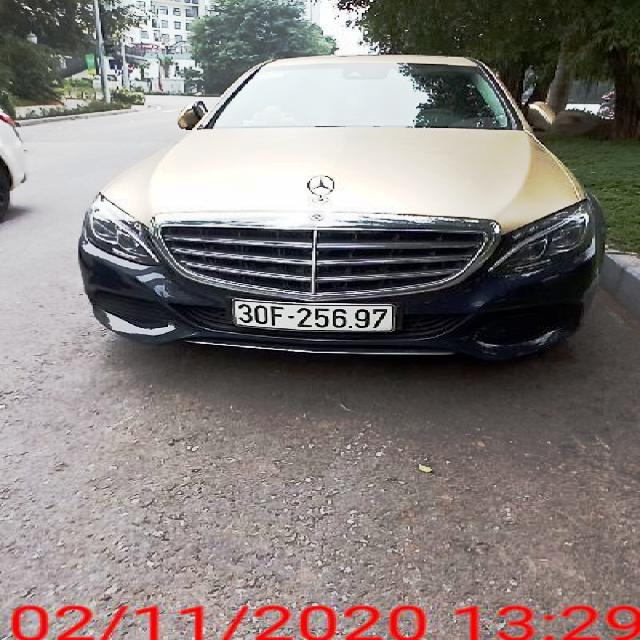license_plate: (235, 301, 399, 334)
